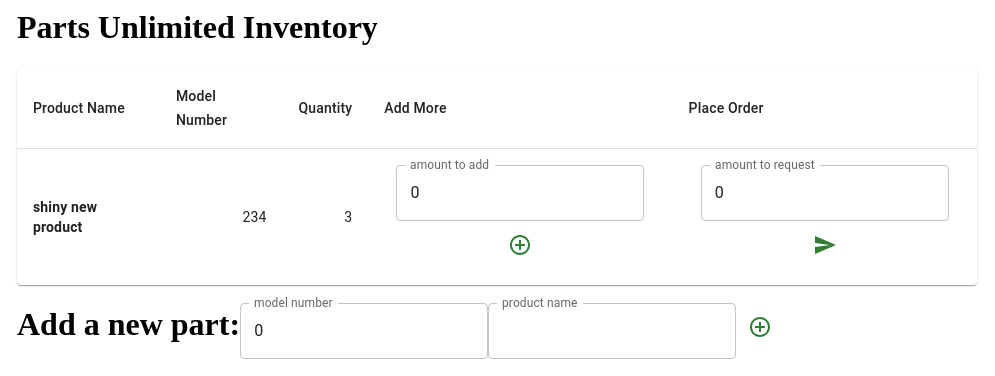
Scenario: Parts Unlimited › when I add quantity to a product › should update the amount shown in the table
Expected: the text "3" is shown, [282, 148, 368, 285]
Type "17" into the field labelled "amount to add" at (520, 193), box [396, 165, 644, 221]
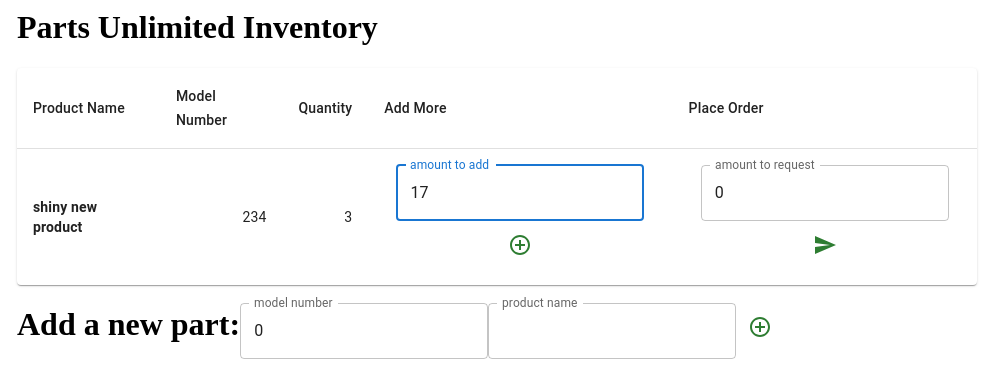
Click the button named "add quantity" at (520, 245), box [496, 221, 544, 269]
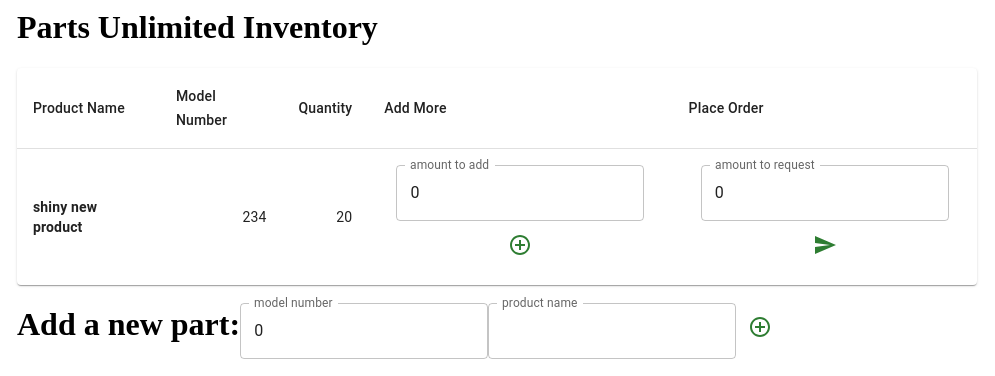
Now the text "20" is shown, box [282, 148, 368, 285]
